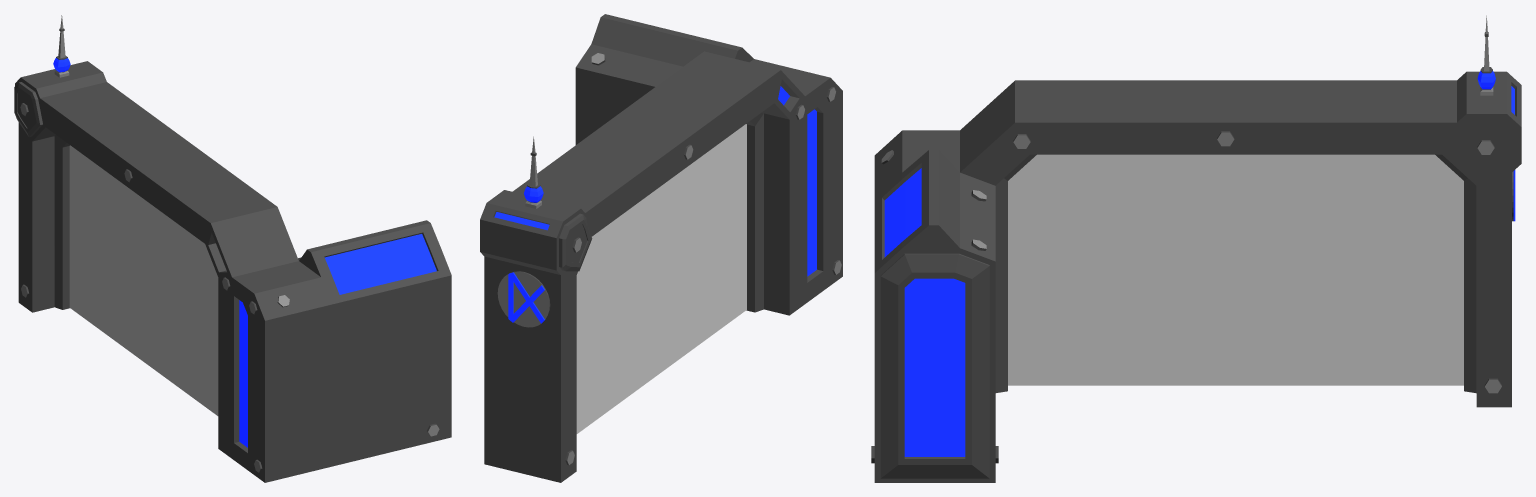
Rendered from upgrader.fbx.
The picture shows the model from 3 angles, left to right: view 1: azimuth 30°, elevation 25°; view 2: azimuth 150°, elevation 25°; view 3: azimuth 270°, elevation 25°; orthographic projection. The views are drawn at different scales.
Visible parts, largest first — view 1: Cylinder.003, Plane; view 2: Cylinder.003, Plane; view 3: Plane, Cylinder.003.
Part boxes in pixels (bbox=[...]): Cylinder.003: bbox=[14, 15, 451, 482]; Plane: bbox=[69, 145, 218, 415]; Cylinder.003: bbox=[480, 14, 842, 482]; Plane: bbox=[576, 124, 746, 433]; Plane: bbox=[1008, 154, 1463, 385]; Cylinder.003: bbox=[871, 15, 1521, 482].
Size of the model in its own units: 187 by 261 by 414.
